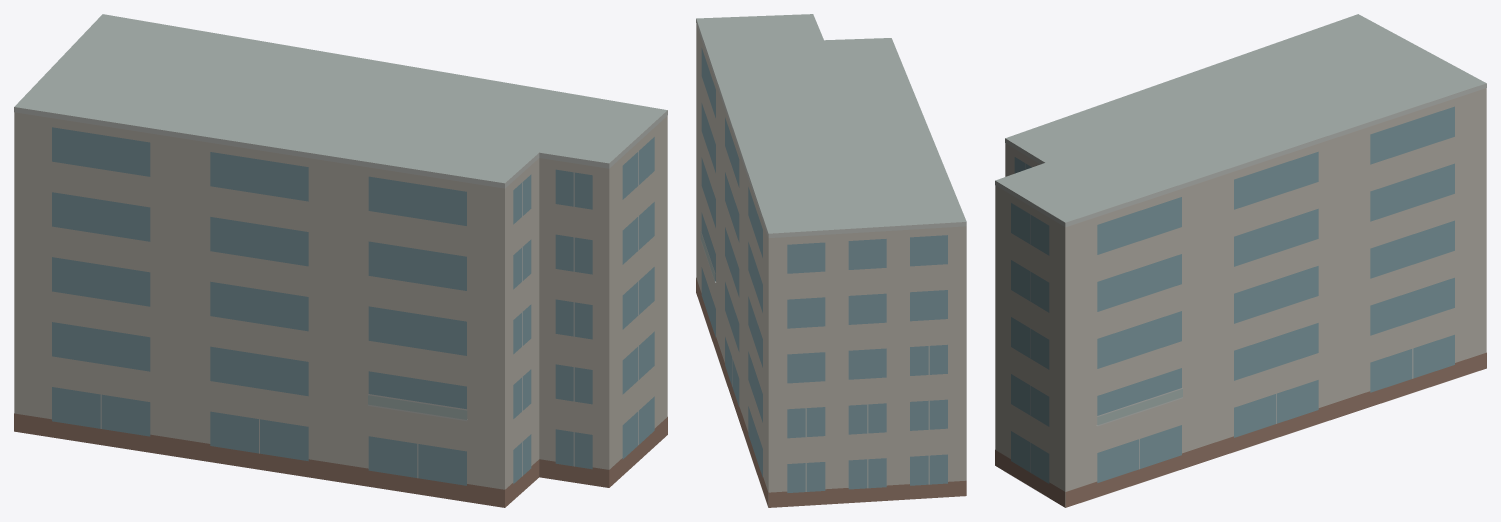
The model's file is survey-upis-33044101.glb.
The picture shows the model from 3 angles, left to right: view 1: azimuth 30°, elevation 25°; view 2: azimuth 150°, elevation 25°; view 3: azimuth 270°, elevation 25°; orthographic projection. The views are drawn at different scales.
Visible parts, largest first — view 1: survey-upis-33044101.tmp; view 2: survey-upis-33044101.tmp; view 3: survey-upis-33044101.tmp.
Boxes of the visible parts, x1,y1,x2,y2 form: survey-upis-33044101.tmp: (14,14,667,507); survey-upis-33044101.tmp: (696,14,966,507); survey-upis-33044101.tmp: (995,14,1486,507).
Size of the model in its own units: 23.5 by 14.96 by 23.38.
